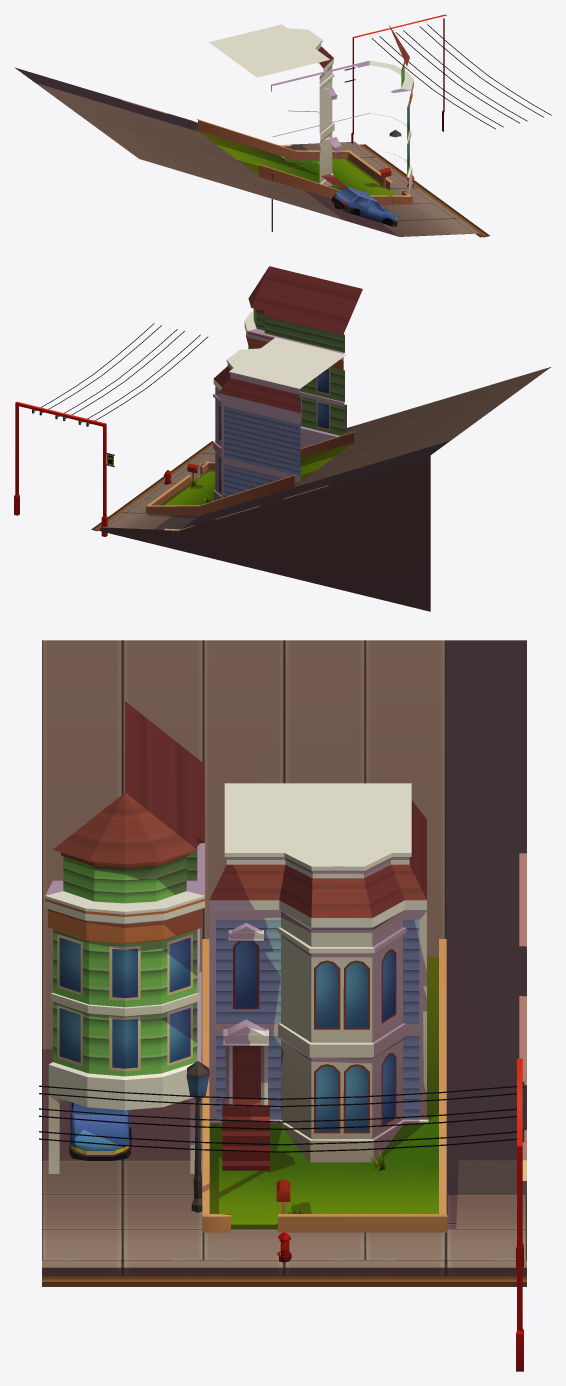
Rendered from 1.100_SanFrancisco_high_03_right.glb.
3 renders of one model, top to bottom at view 1: azimuth 30°, elevation 25°; view 2: azimuth 150°, elevation 25°; view 3: azimuth 270°, elevation 25°, orthographic. The views are drawn at different scales.
Visible parts, largest first — view 1: 1.100_SanFrancisco_high_03_right; view 2: 1.100_SanFrancisco_high_03_right; view 3: 1.100_SanFrancisco_high_03_right.
Part boxes in pixels (x1=…): 1.100_SanFrancisco_high_03_right: x1=14, y1=14, x2=551, y2=237; 1.100_SanFrancisco_high_03_right: x1=14, y1=266, x2=550, y2=611; 1.100_SanFrancisco_high_03_right: x1=39, y1=640, x2=526, y2=1371.
Size of the model in its own units: 358 by 175 by 181.
Materials: 3 (3 with a texture image).
